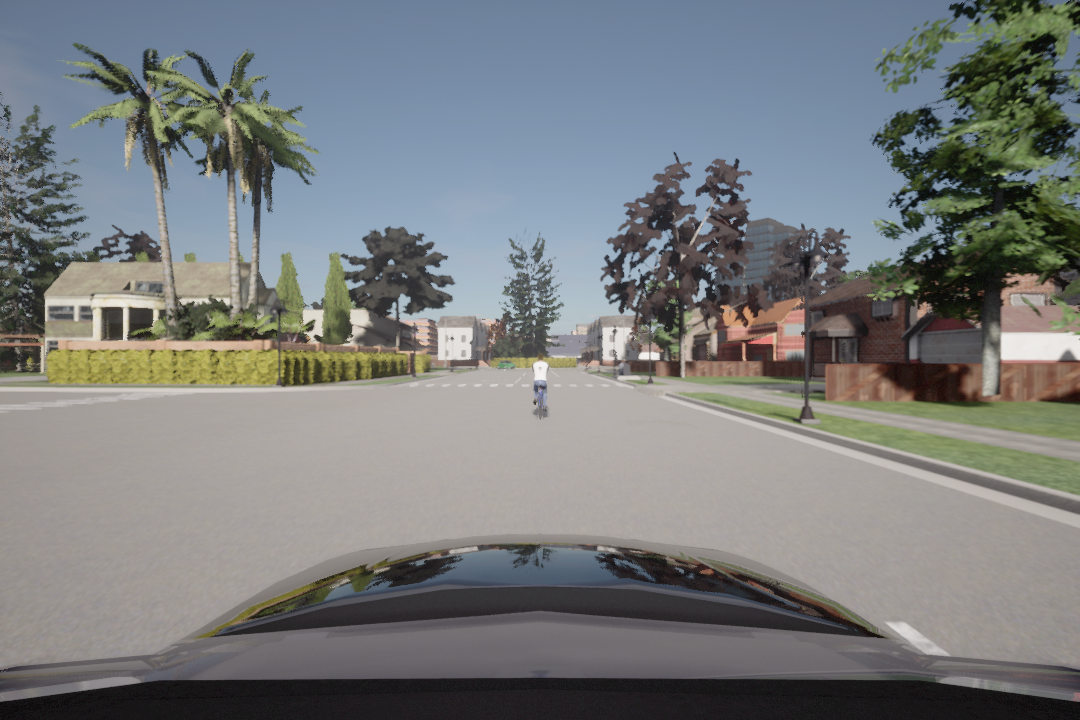walkside: (407, 381, 627, 390)
